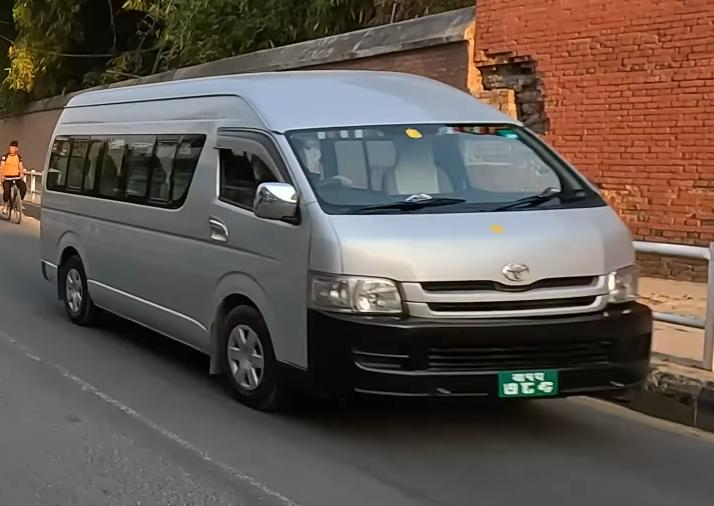micro_bus: (36, 72, 662, 425)
